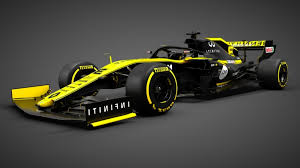f1_car: (9, 26, 291, 132)
